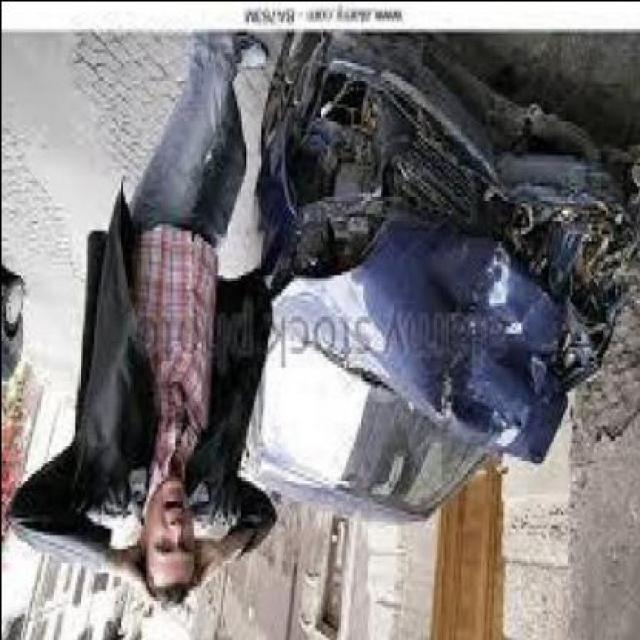damage: (252, 29, 639, 472)
